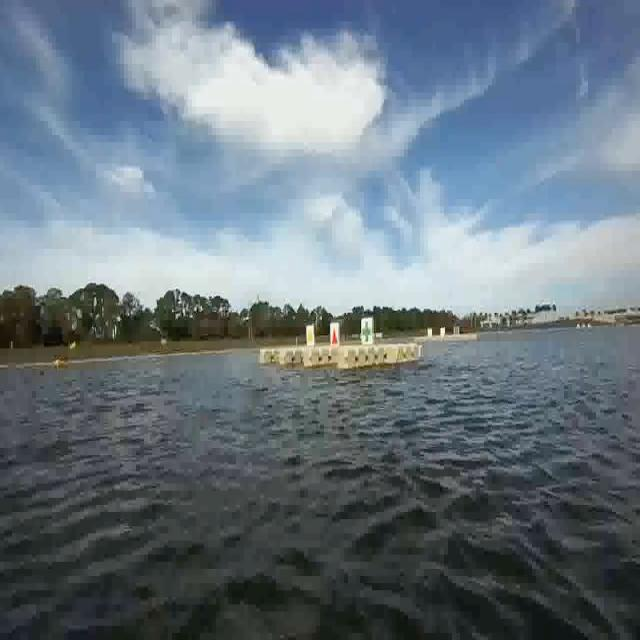blue-cross: (356, 317, 372, 344)
red-dot: (328, 323, 342, 347)
yellow-duck: (305, 323, 316, 349)
